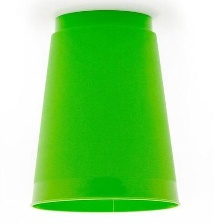glass: (21, 6, 181, 219)
